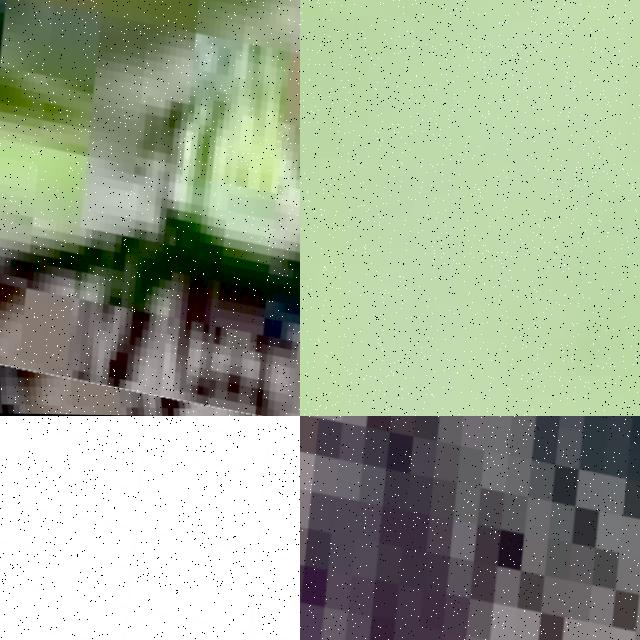drone: (0, 0, 300, 416), (300, 416, 640, 640), (0, 416, 300, 640)
